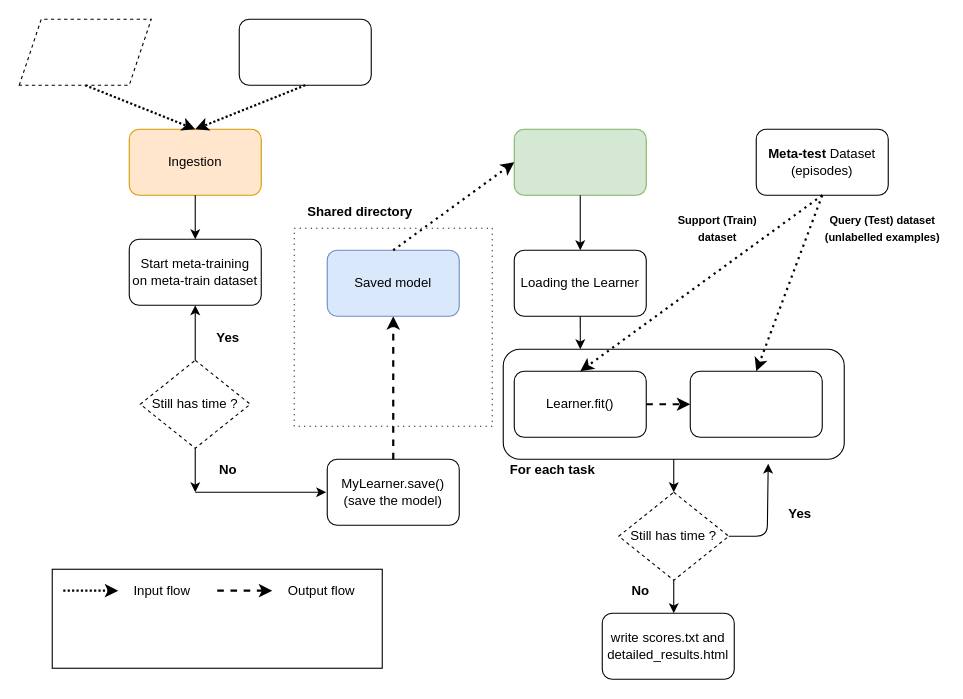
The diagram is 963 pixels wide and 699 high, and some of its shapes have lost their labels. Each missing label, with the box of its shape:
Algorithm: model.py (+ optional files): (18, 18, 151, 85)
Meta-train Dataset (episodes): (238, 18, 371, 85)
Note : This is a simplified version of the current competition workflow: (51, 568, 382, 668)
Predictor.predict() + compute score: (689, 370, 822, 437)
Scoring: (513, 128, 646, 195)
